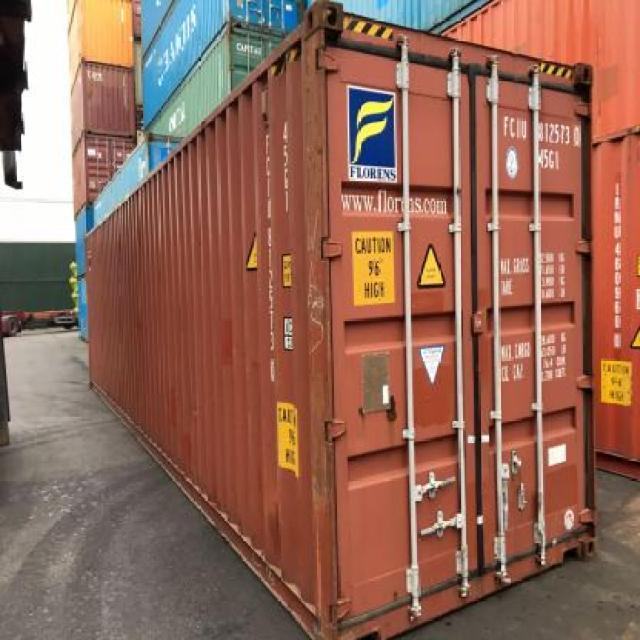ISO: (533, 150, 564, 172)
container_number: (504, 115, 582, 144)
